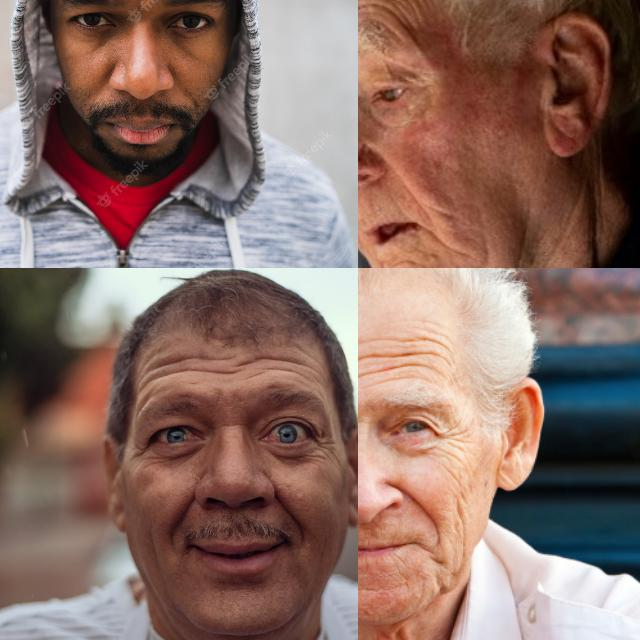chin: (358, 581, 402, 596)
crows_feet: (312, 428, 340, 466), (431, 420, 461, 448), (125, 437, 153, 463)
forehead: (262, 345, 316, 381), (144, 344, 200, 378), (211, 346, 257, 384), (362, 0, 427, 23), (388, 345, 434, 377), (406, 324, 446, 354), (358, 349, 375, 365)
frown_line: (216, 416, 242, 430)
gummy_smile: (374, 152, 428, 222), (400, 484, 440, 524), (273, 491, 307, 531), (167, 491, 200, 532), (358, 191, 363, 234)
masseter: (449, 496, 469, 540)
sad_smile: (420, 220, 466, 258), (428, 548, 448, 576)
